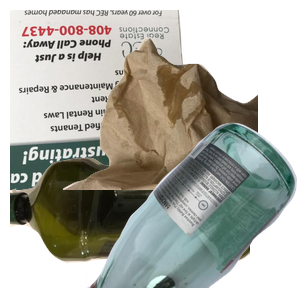glass: (86, 120, 300, 300)
paper: (10, 10, 201, 190)
plastic: (10, 149, 250, 300)
trash: (60, 35, 300, 215)
